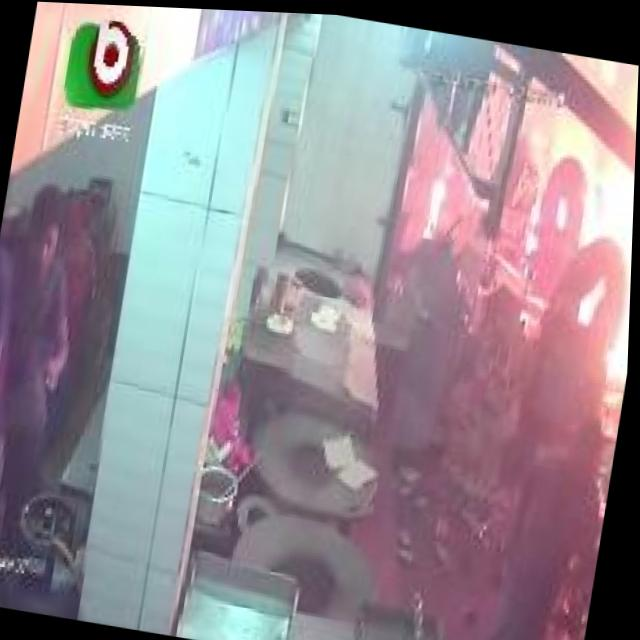fire: (548, 145, 636, 395), (417, 164, 455, 246), (609, 58, 639, 157)
